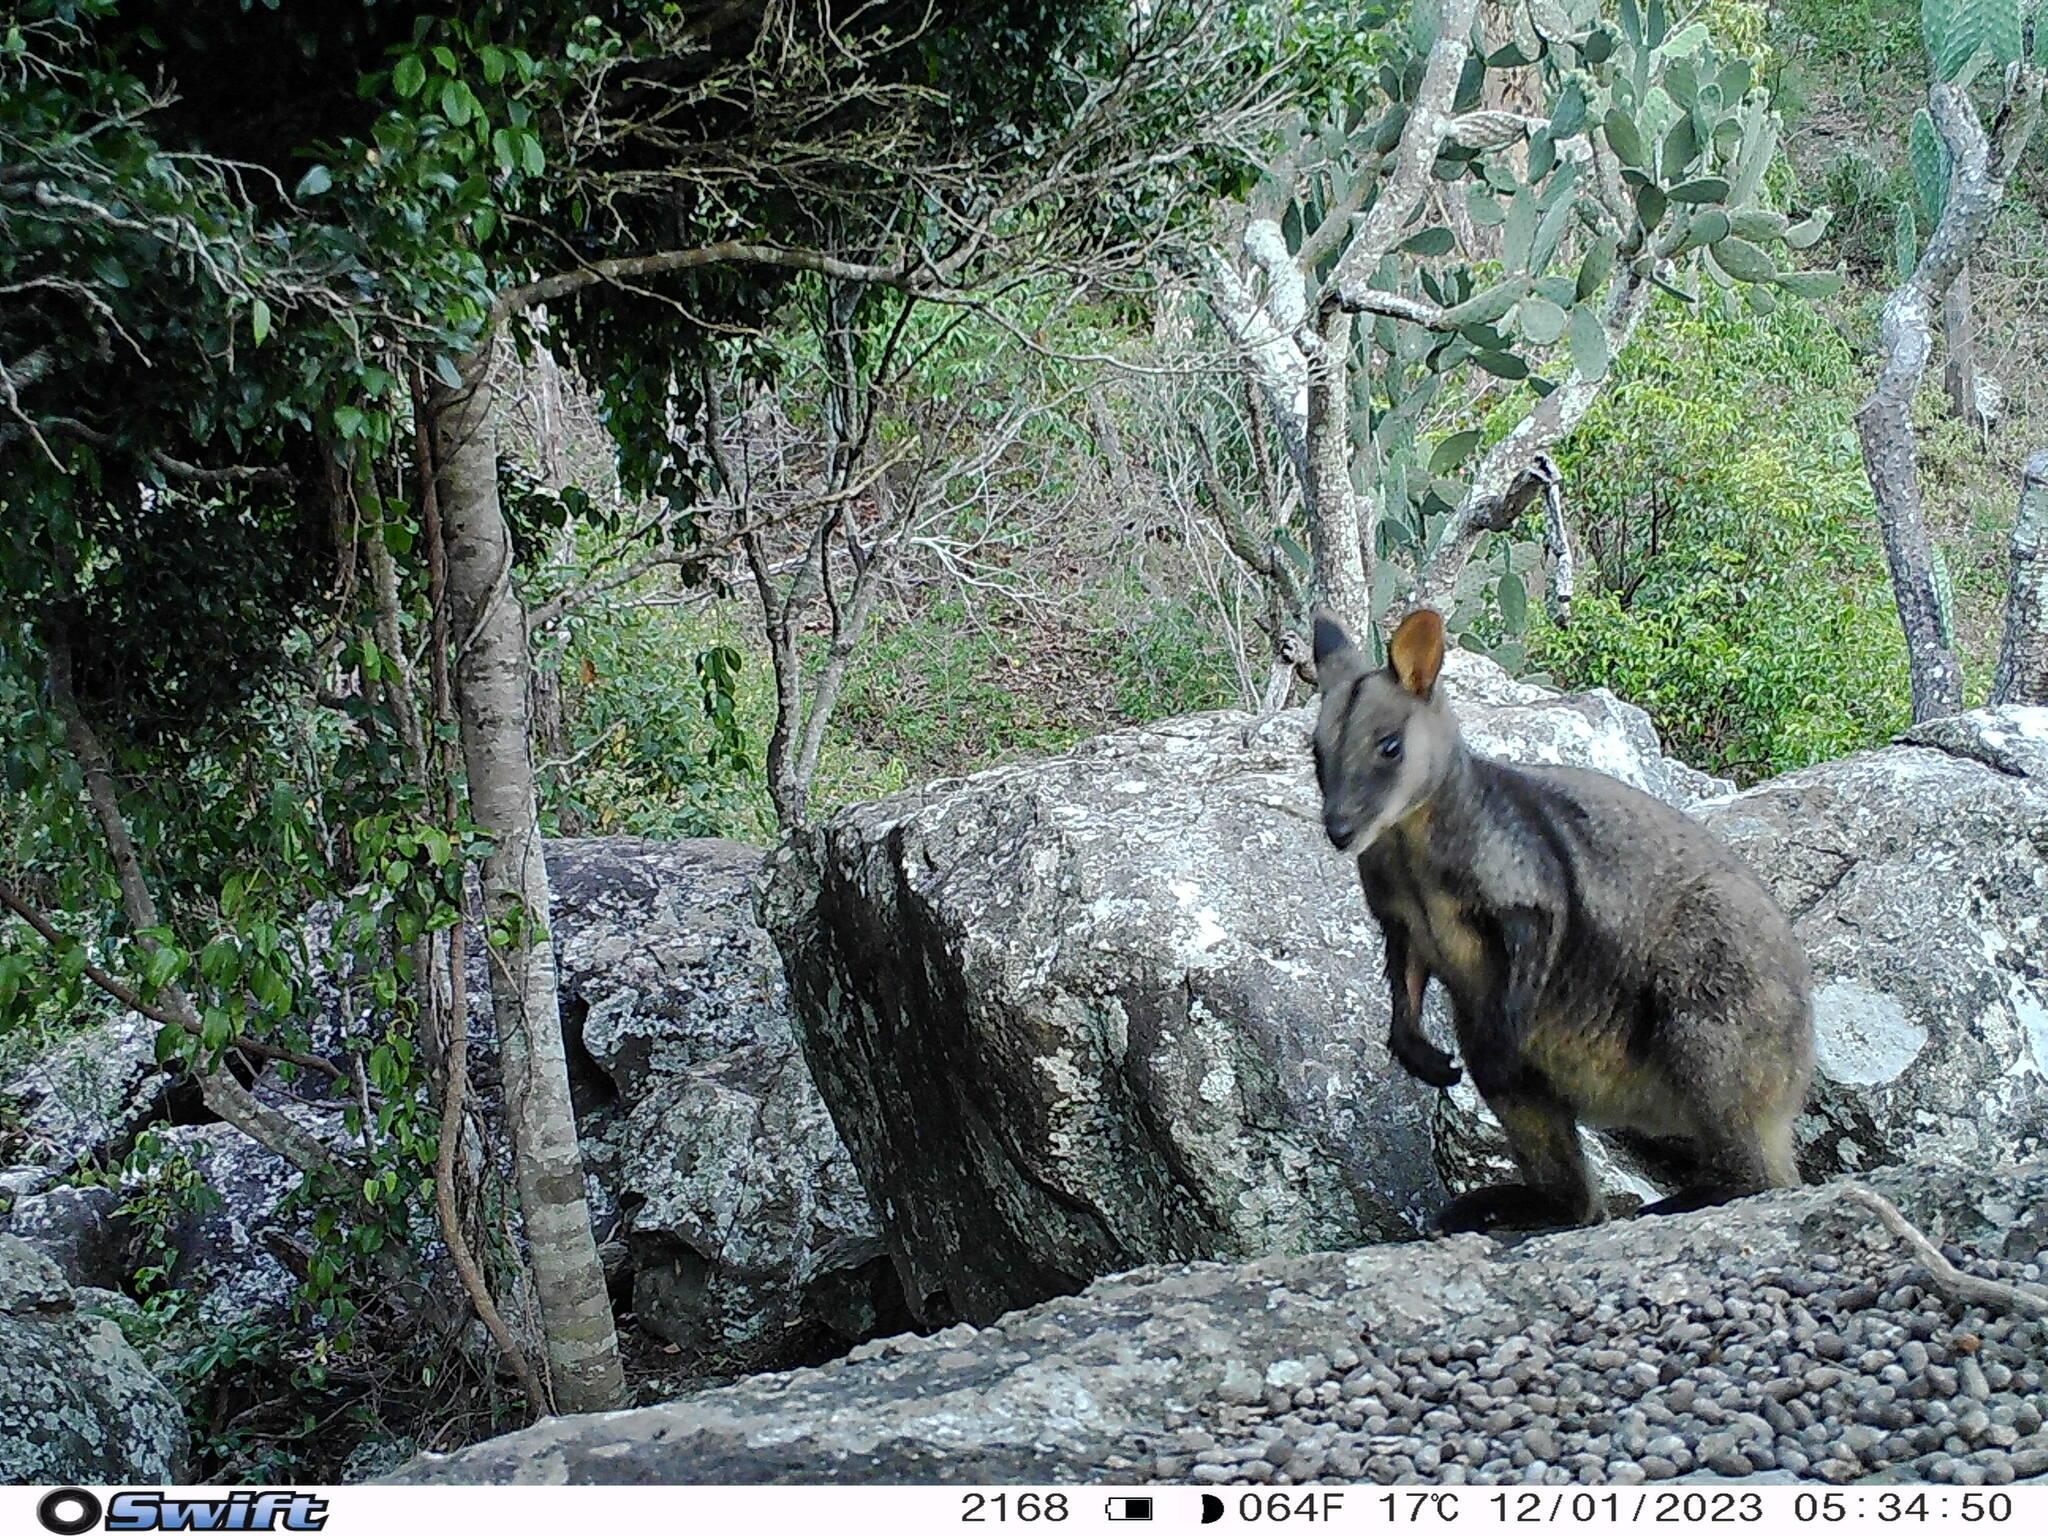Brush-tailed rock-wallaby: (1298, 600, 1825, 1246)
